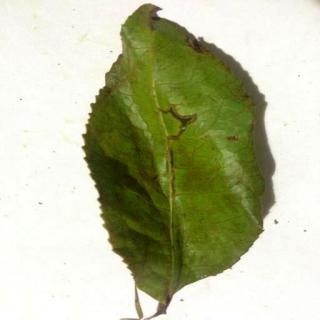Red Leaf Spot: (85, 3, 266, 320)
